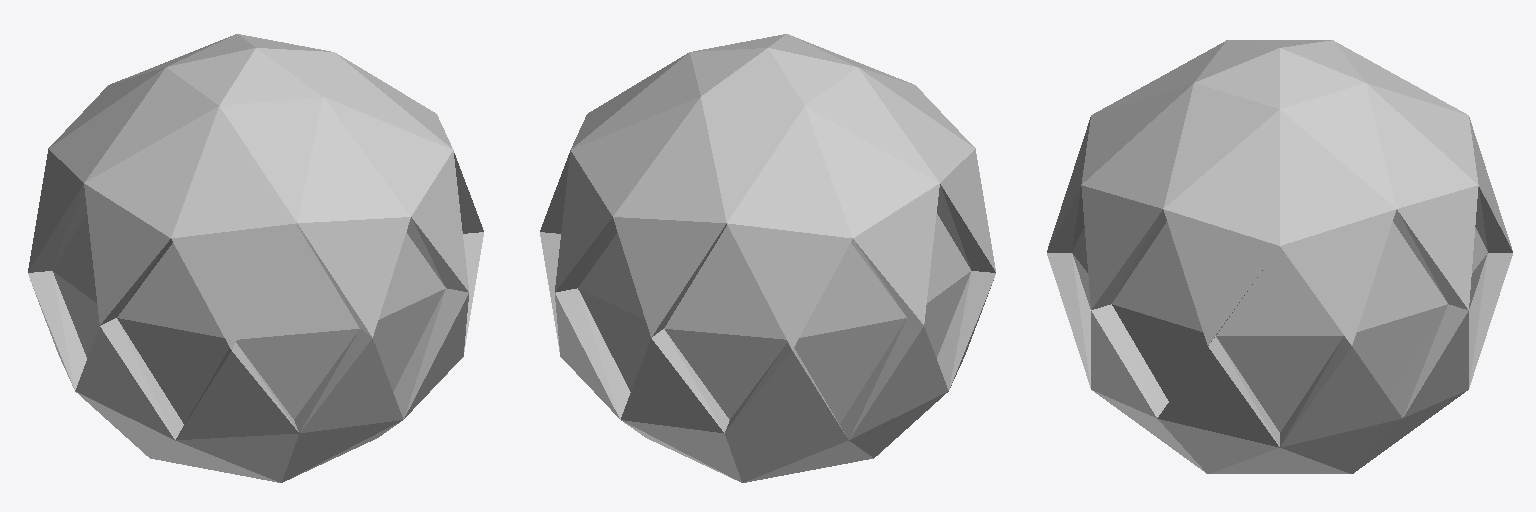
The model's file is Collectable.obj.
3 views of the same model, side by side, from view 1: azimuth 30°, elevation 25°; view 2: azimuth 150°, elevation 25°; view 3: azimuth 270°, elevation 25° (orthographic).
Visible parts, largest first — view 1: Icosphere; view 2: Icosphere; view 3: Icosphere.
Boxes of the visible parts, box(x1,y1,x2,y2) form: Icosphere: box(28, 34, 483, 482); Icosphere: box(540, 34, 995, 482); Icosphere: box(1047, 40, 1512, 473).
Size of the model in its own units: 19.02 by 19.67 by 20.